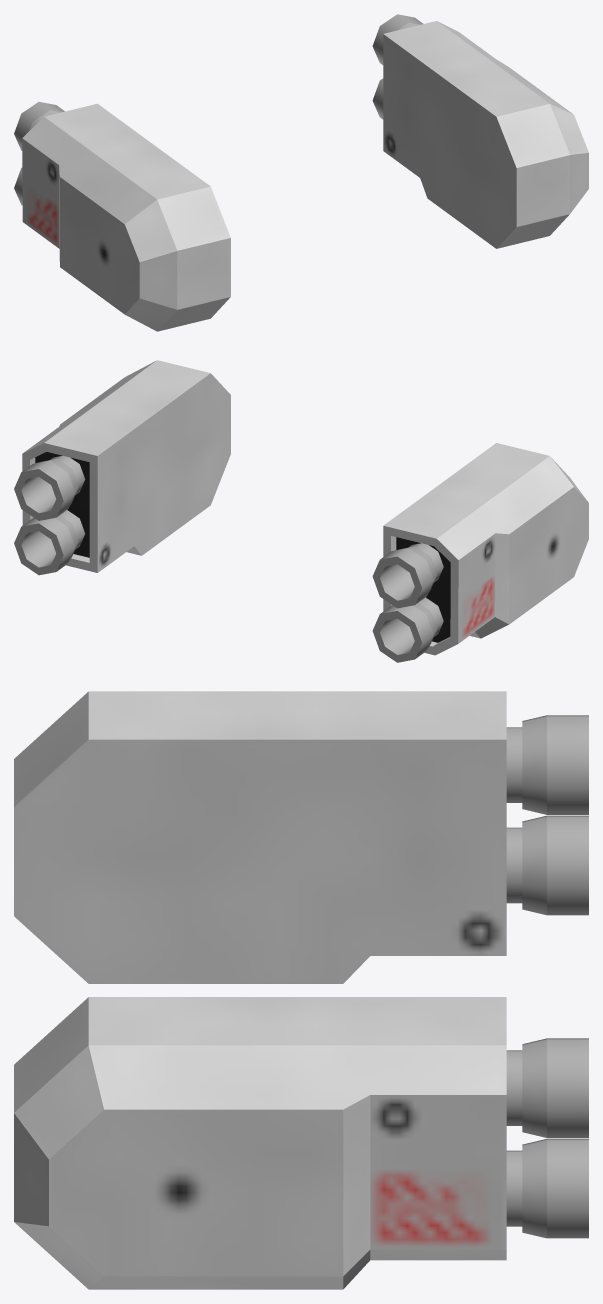
Rendered from Agent_Handheld_Spider_Rifle.fbx.
3 renders of one model, top to bottom at view 1: azimuth 30°, elevation 25°; view 2: azimuth 150°, elevation 25°; view 3: azimuth 270°, elevation 25°, orthographic. The views are drawn at different scales.
Parts seen in each view (by area): view 1: GunBarrel_1; view 2: GunBarrel_1; view 3: GunBarrel_1.
Boxes of the visible parts, x1,y1,x2,y2 form: GunBarrel_1: [14, 14, 588, 331]; GunBarrel_1: [14, 360, 588, 662]; GunBarrel_1: [14, 691, 588, 1289].
Bounding box in the file's own units: 0.8364 × 0.2352 × 0.5019.
